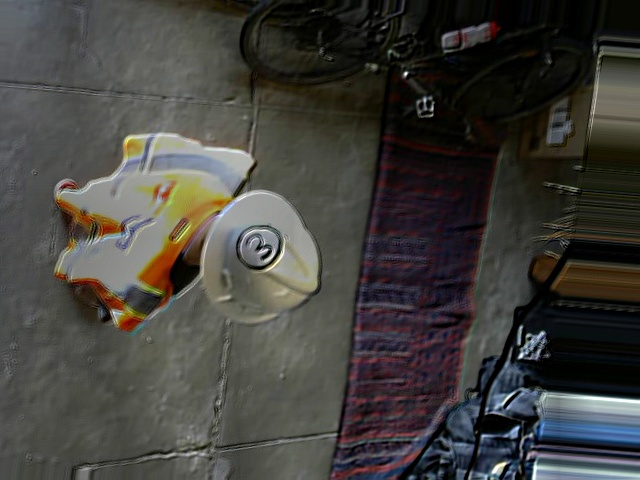three: (233, 225, 284, 272)
